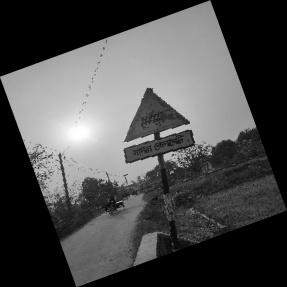Rail-crossing: (122, 88, 193, 165)
